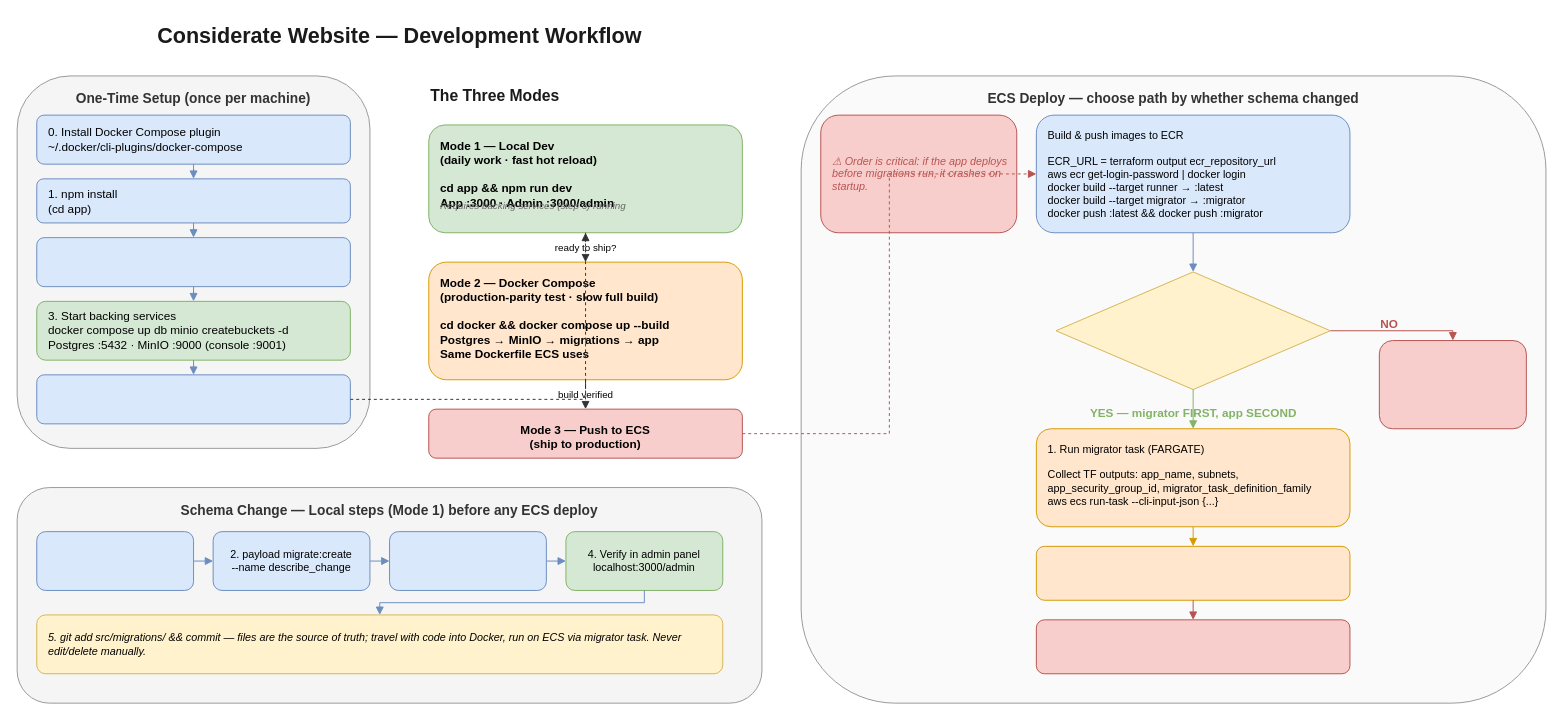
This 1563x720 diagram has some shape labels left out. The shapes that lost their labels are listed below. From the top down, each one's centre as x and y in pixels, then its label:
point 193,262: 2. Create app/.env (localhost endpoints, not Docker service names)
point 1192,330: Schema changed? (new migration files committed)
point 193,399: 4. Run existing migrations npx payload migrate
point 1452,384: Deploy new app image aws ecs update-service --force-new-deployment
point 115,560: 1. Edit collection / global file
point 467,560: 3. payload migrate (apply to local DB)
point 1192,572: 2. Watch logs until "Done." aws logs tail /ecs/${APP_NAME} --follow
point 1192,646: 3. Deploy new app image aws ecs update-service --force-new-deployment
